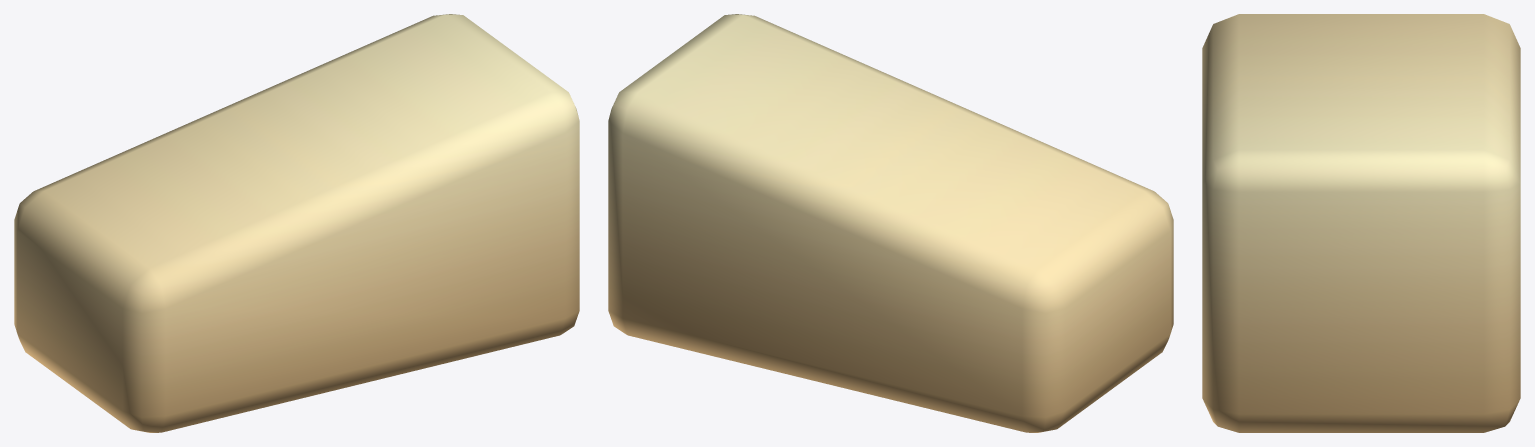
File: Butter.glb
3 views of the same model, side by side, from view 1: azimuth 30°, elevation 25°; view 2: azimuth 150°, elevation 25°; view 3: azimuth 270°, elevation 25° (orthographic). The views are drawn at different scales.
Parts seen in each view (by area): view 1: Butter; view 2: Butter; view 3: Butter.
Part boxes in pixels (bbox=[...]): Butter: bbox=[14, 14, 579, 432]; Butter: bbox=[608, 14, 1173, 432]; Butter: bbox=[1202, 14, 1520, 432].
Bounding box in the file's own units: 0.1902 × 0.0973 × 0.0994.
1 material, 1 textured.
